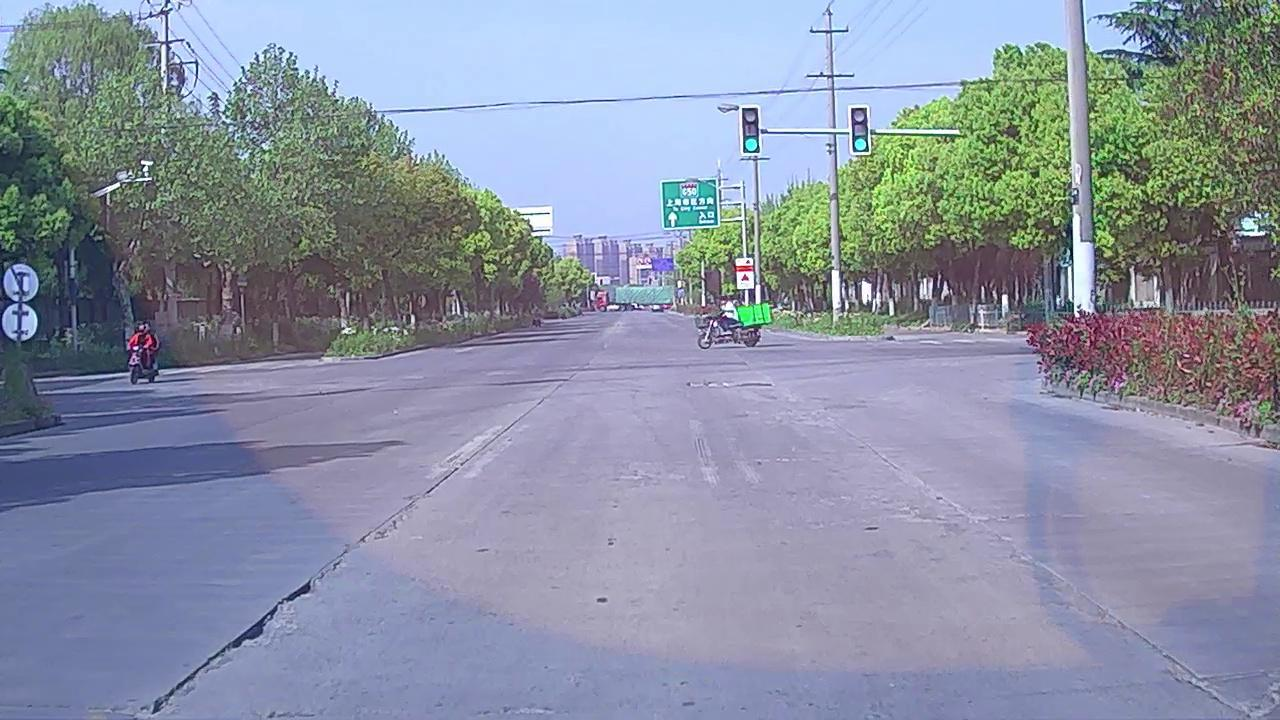traffic_light: (850, 105, 872, 155), (742, 107, 760, 154)
